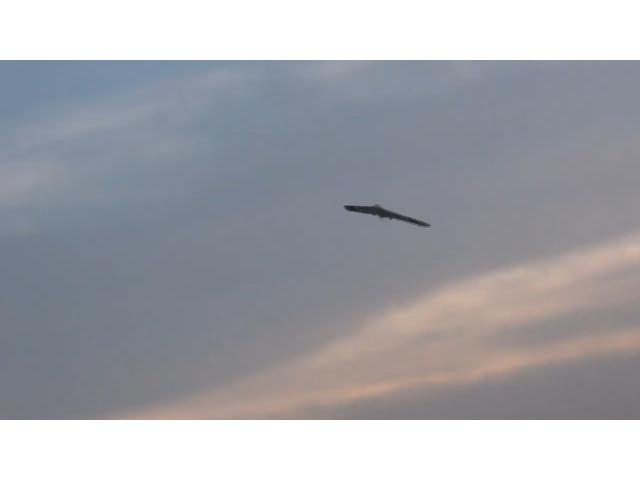Anti-Drone: (346, 205, 432, 227)
